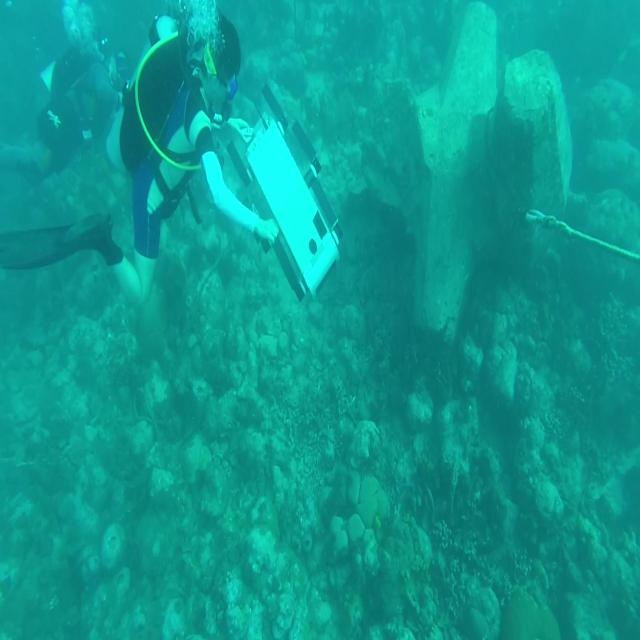human: (9, 10, 285, 313), (1, 1, 126, 186)
